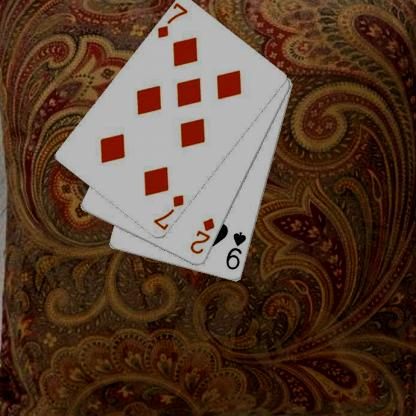2D: (187, 216, 216, 256)
7D: (150, 192, 186, 231), (154, 2, 190, 40)
9S: (224, 229, 248, 271)
